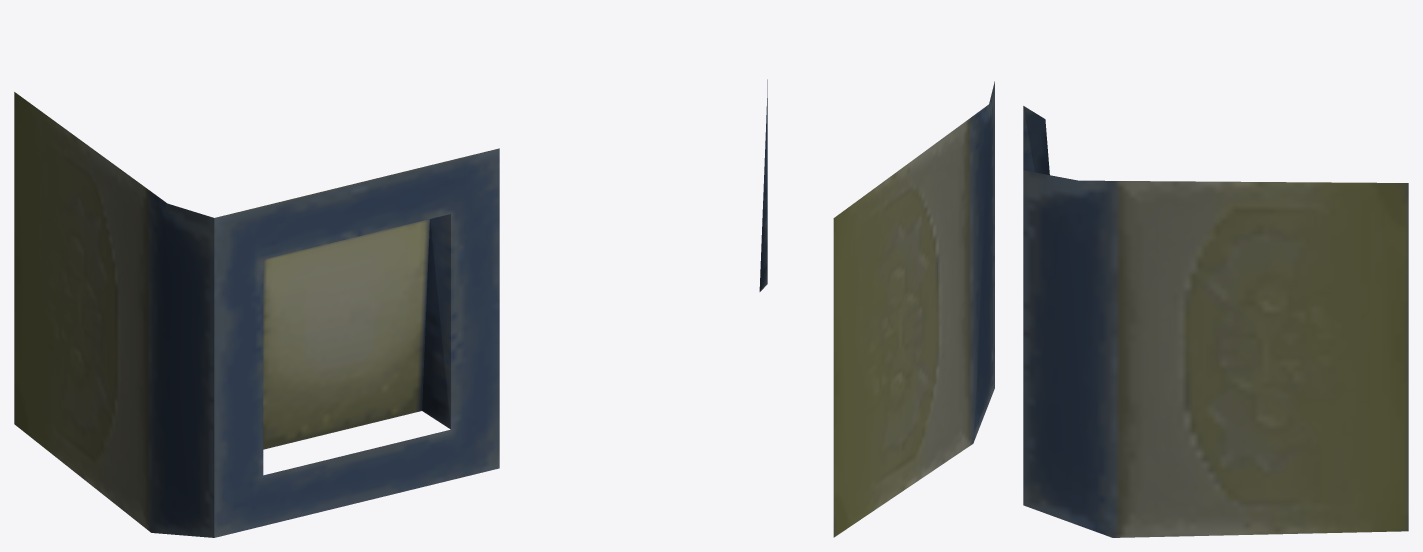
3 views of the same model, side by side, from view 1: azimuth 30°, elevation 25°; view 2: azimuth 150°, elevation 25°; view 3: azimuth 270°, elevation 25° (orthographic). The views are drawn at different scales.
Parts seen in each view (by area): view 1: A:\.Yandex.YandexDisk.SK SHARED FILES.Game models.1 Exported; view 2: A:\.Yandex.YandexDisk.SK SHARED FILES.Game models.1 Exported; view 3: A:\.Yandex.YandexDisk.SK SHARED FILES.Game models.1 Exported.
Part boxes in pixels (x1,y1,x2,y2): A:\.Yandex.YandexDisk.SK SHARED FILES.Game models.1 Exported: (14, 92, 499, 537); A:\.Yandex.YandexDisk.SK SHARED FILES.Game models.1 Exported: (759, 79, 994, 537); A:\.Yandex.YandexDisk.SK SHARED FILES.Game models.1 Exported: (1023, 106, 1408, 537).
Bounding box in the file's own units: 1.03 × 1.03 × 1.
Materials: 1 (1 with a texture image).
